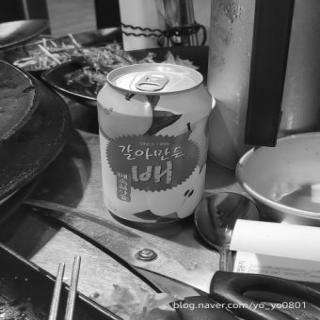alumunium_can: (97, 64, 205, 220)
